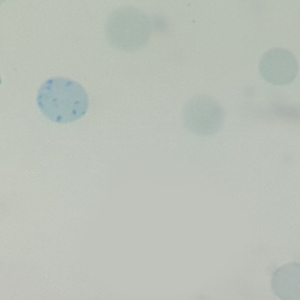aggregate reticulocyte: (35, 77, 90, 125)
erythrocyte: (102, 5, 151, 55), (180, 92, 226, 137), (257, 46, 300, 88)
